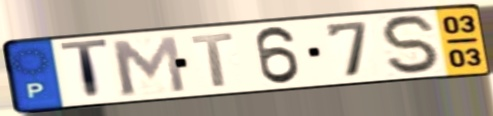6: (252, 25, 303, 87)
7: (324, 19, 373, 79)
M: (106, 34, 189, 98)
S: (377, 13, 445, 76)
T: (57, 37, 112, 103), (188, 30, 237, 89)
